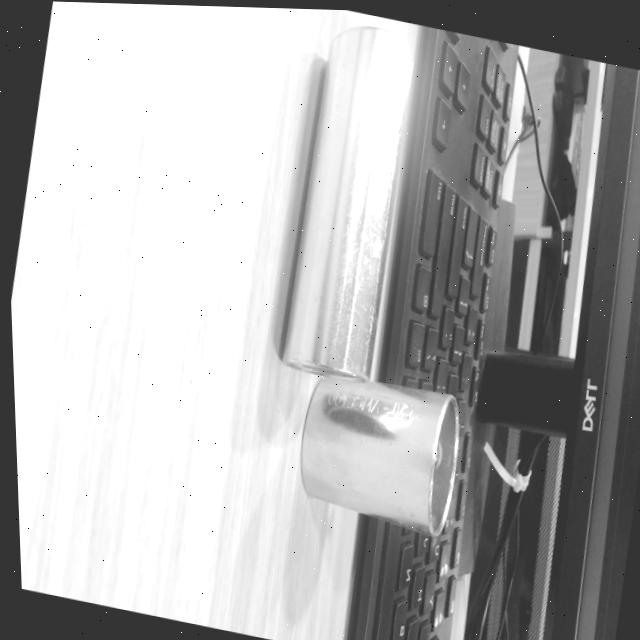Co_Lon: (279, 20, 416, 382)
Co_Nho: (288, 371, 467, 538)
